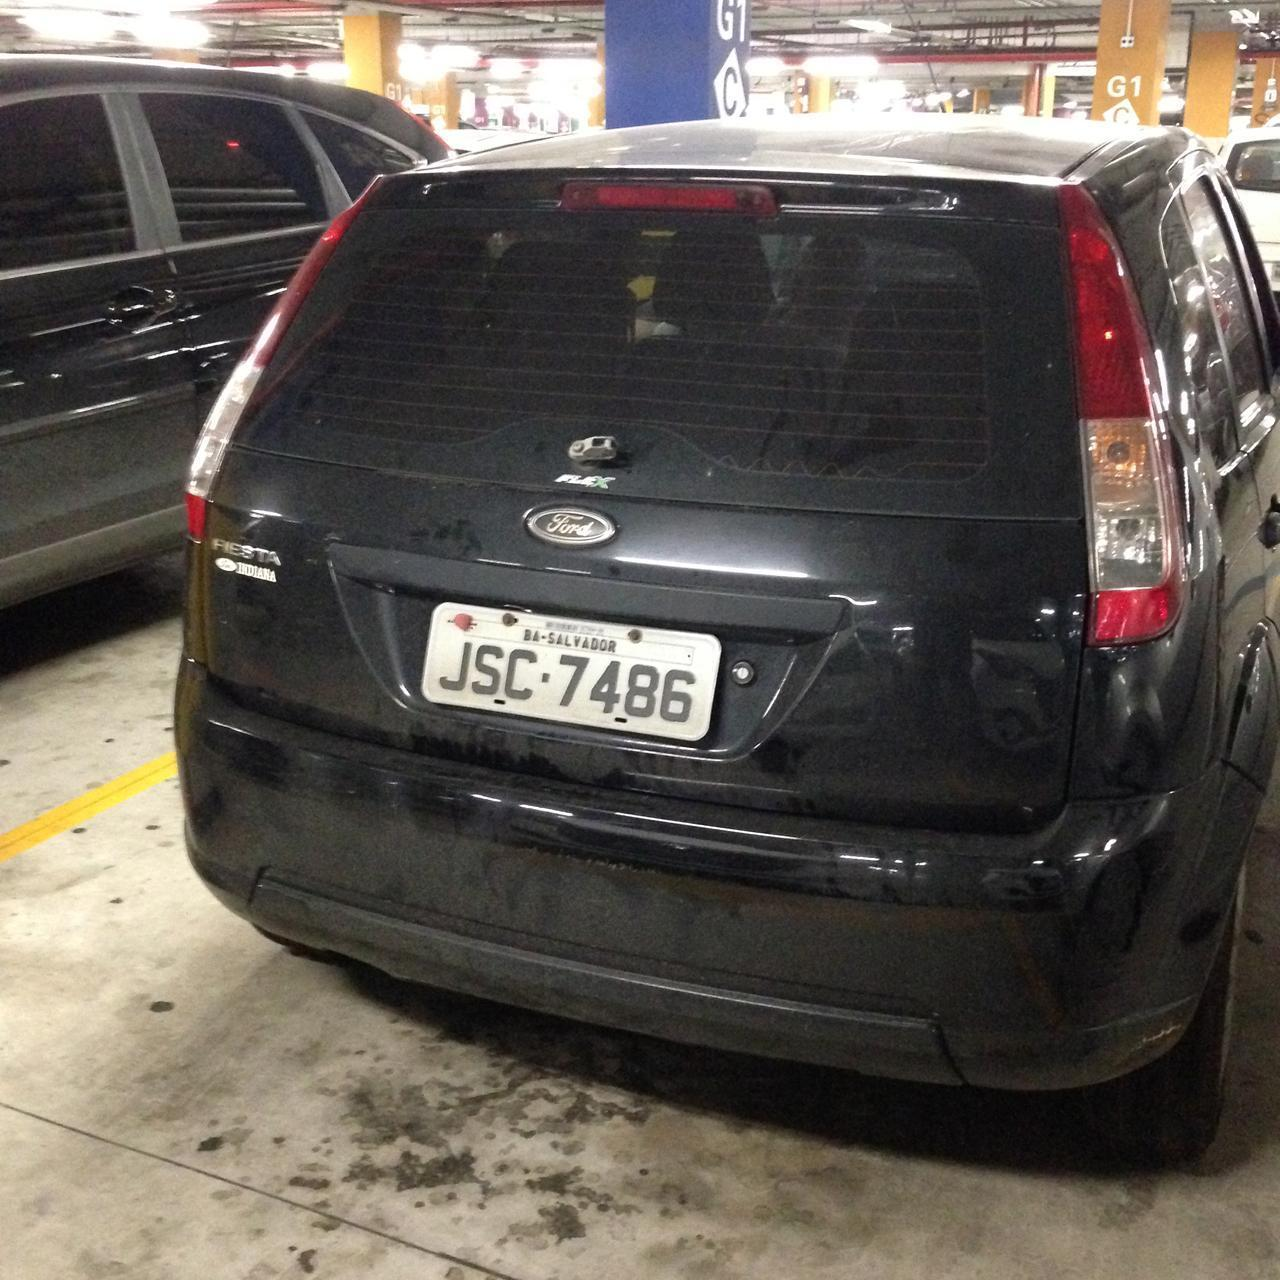placa de veiculo: (405, 565, 740, 779)
